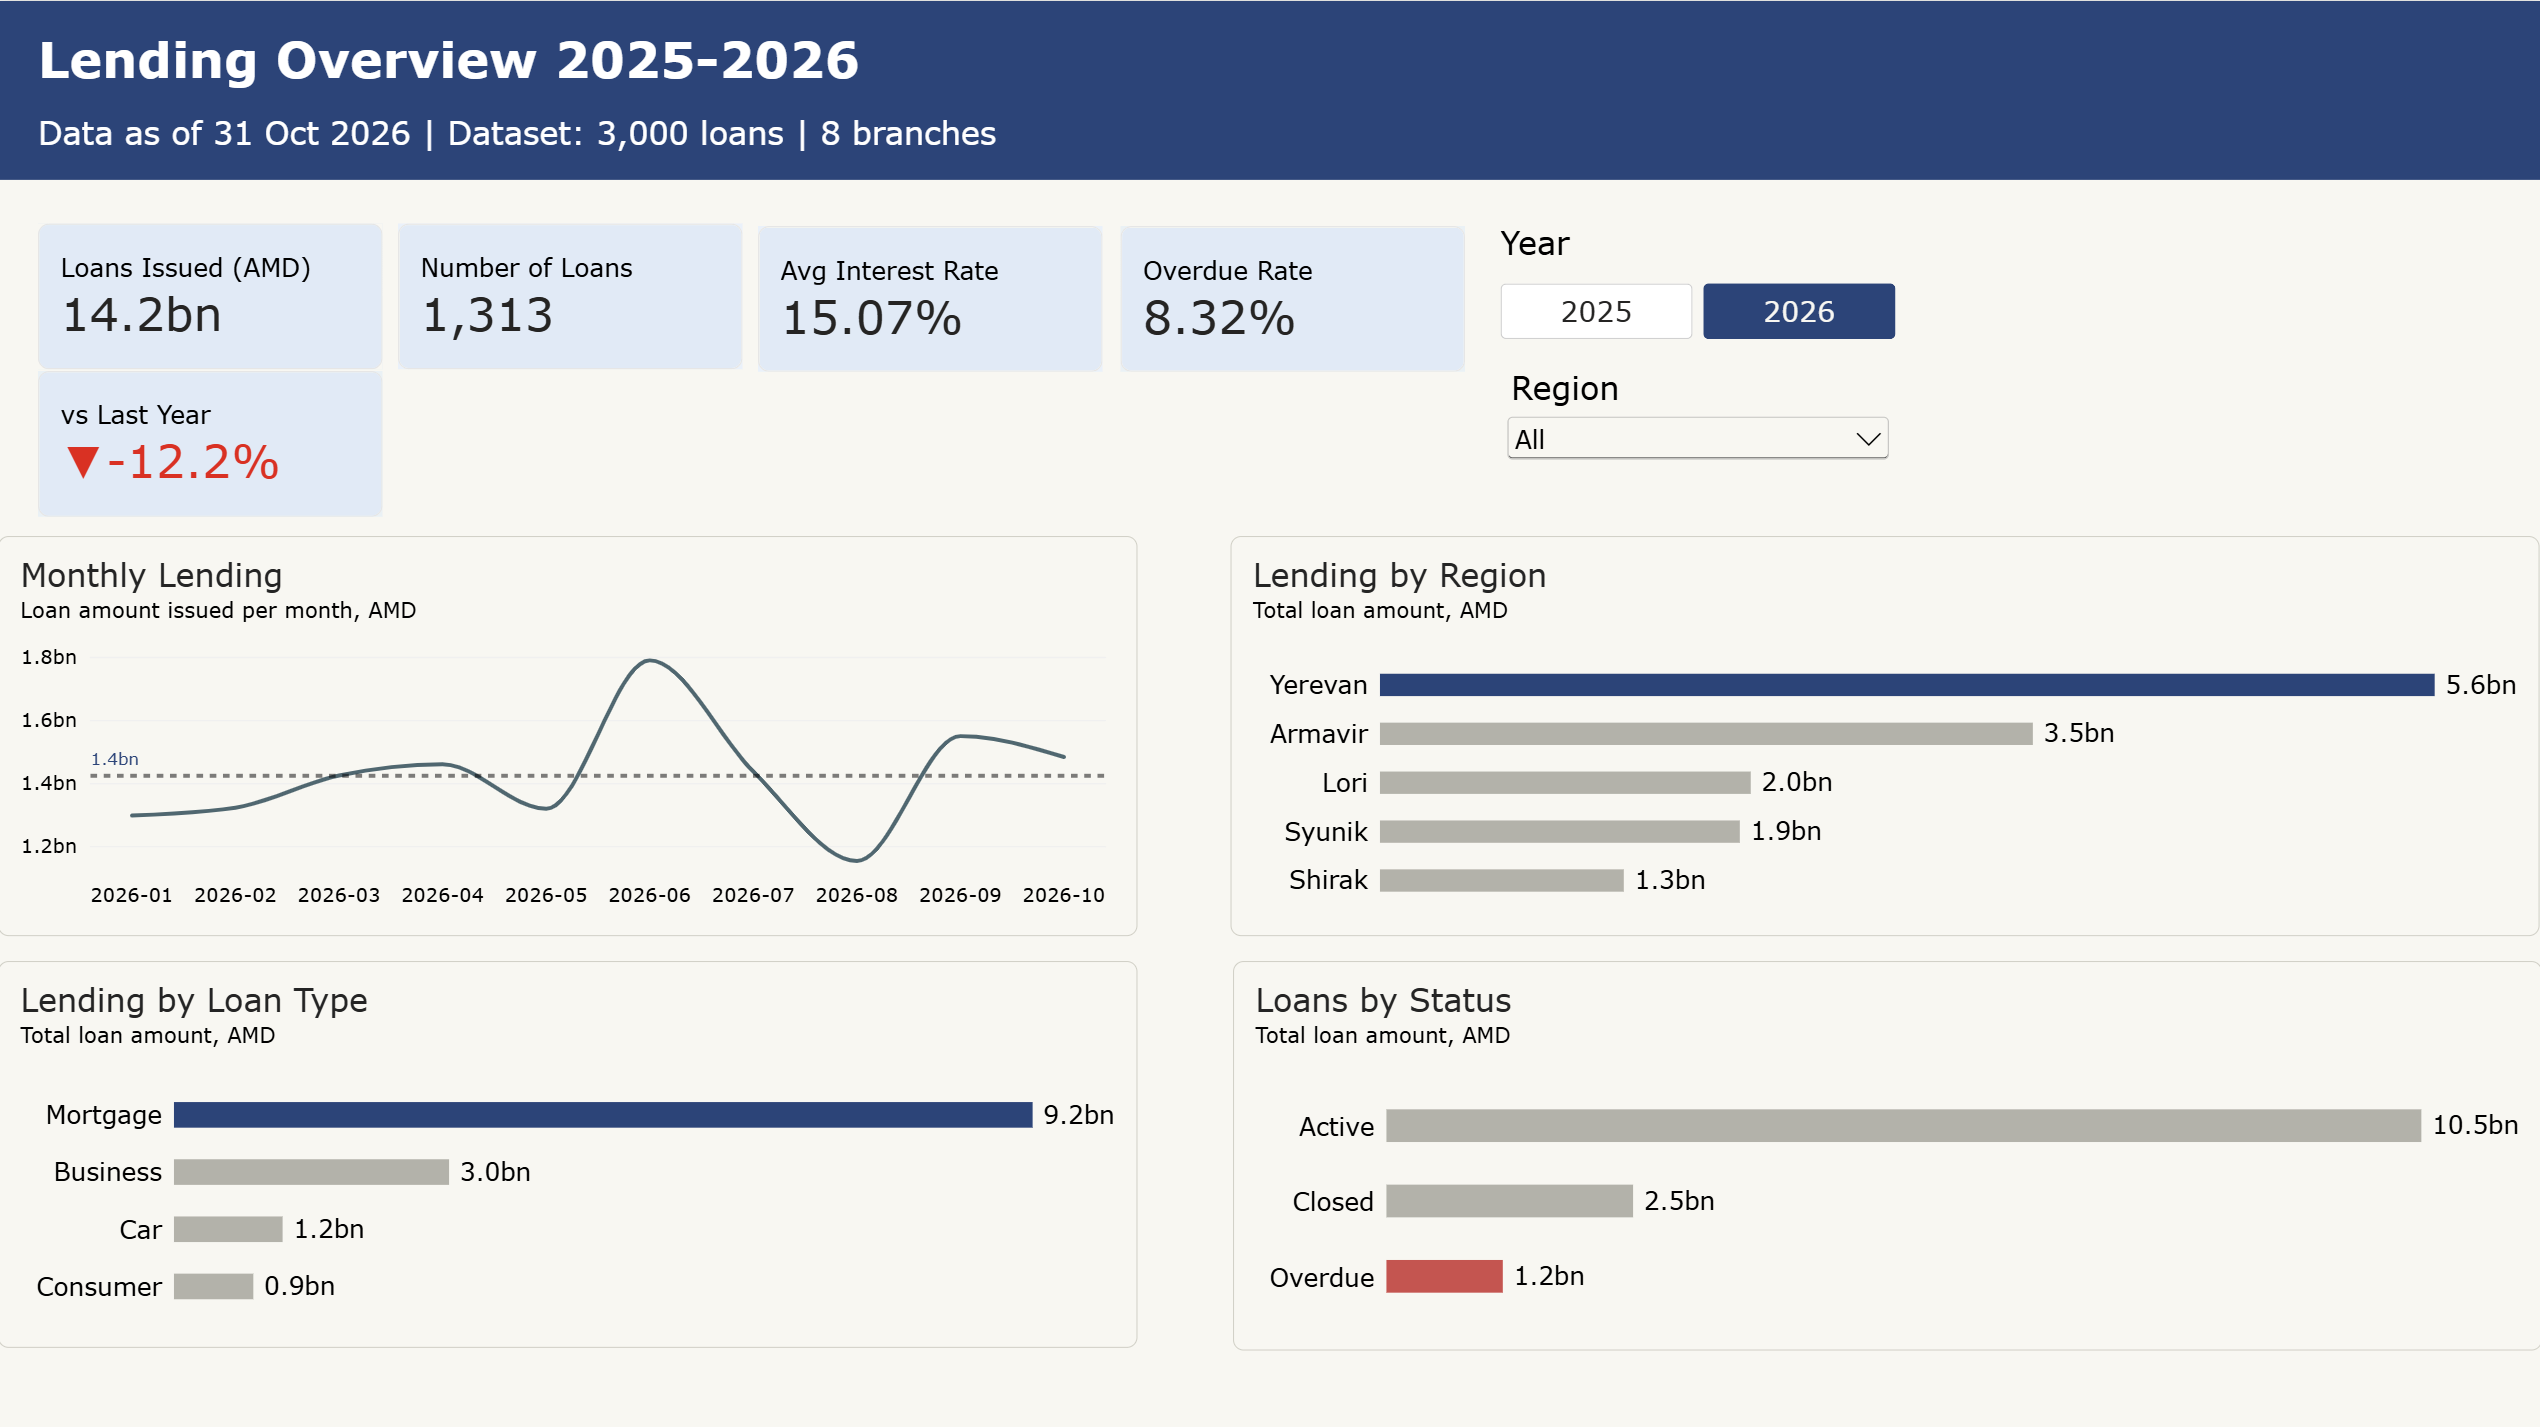

What the dashboard file says about the page in this screenshot:
{"tool":"powerbi","page":{"name":"Overview ","canvas":[1920,1080],"ordinal":0},"visuals":[{"type":"shape","box":[0,0,1920,135],"z":0},{"type":"textbox","box":[30,20,1890,65],"z":1000},{"type":"cardVisual","fields":{"Data":["fact_loans.Loans Issued Text"]},"box":[30,168,260,110],"z":2000},{"type":"cardVisual","fields":{"Data":["fact_loans.Loans Count Text"]},"box":[302.2,168,260,110],"z":3000},{"type":"cardVisual","fields":{"Data":["fact_loans.Avg Rate Text"]},"box":[574.4,168.9,260,110],"z":4000},{"type":"cardVisual","fields":{"Data":["fact_loans.Overdue%"]},"box":[846.7,168.9,260,110],"z":5000},{"type":"lineChart","title":"Monthly Lending ","fields":{"Category":["Dates.Year Month"],"Y":["fact_loans.Total loans"]},"box":[0,404.4,860,302],"z":6000},{"type":"barChart","title":"Lending by Region ","fields":{"Category":["dim_branches.Region"],"Y":["fact_loans.Total loans"]},"box":[931.1,404.4,988,302],"z":7000},{"type":"advancedSlicerVisual","fields":{"Values":["Dates.Year"]},"box":[1134,168,298,88],"z":8000},{"type":"slicer","fields":{"Values":["dim_branches.Region"]},"box":[1134,278,298,94],"z":9000},{"type":"textbox","box":[30.4,85.1,1338.7,32.4],"z":10000},{"type":"cardVisual","fields":{"Data":["fact_loans.YoY Label"]},"box":[31.1,280,260,110],"z":11000},{"type":"clusteredBarChart","title":"Lending by Loan Type ","fields":{"Category":["fact_loans.LoanType"],"Y":["fact_loans.Total loans"]},"box":[0,724,860,292],"z":12000},{"type":"clusteredBarChart","title":"Loans by Status ","fields":{"Category":["fact_loans.Status"],"Y":["fact_loans.Total loans"]},"box":[932,724,988,294],"z":13000}]}

Visuals, with their boxes in screenshot pixels (x1, y1, x2, y2), scaled from the page's 1920x1080 canvas onto the 2540x1427 screenshot:
shape: (0,0,2539,178)
textbox: (40,26,2539,112)
cardVisual - fact_loans.Loans Issued Text: (40,222,384,367)
cardVisual - fact_loans.Loans Count Text: (400,222,744,367)
cardVisual - fact_loans.Avg Rate Text: (760,223,1104,369)
cardVisual - fact_loans.Overdue%: (1120,223,1464,369)
"Monthly Lending " lineChart: (0,534,1138,933)
"Lending by Region " barChart: (1232,534,2539,933)
advancedSlicerVisual - Dates.Year: (1500,222,1894,338)
slicer - dim_branches.Region: (1500,367,1894,492)
textbox: (40,112,1811,155)
cardVisual - fact_loans.YoY Label: (41,370,385,515)
"Lending by Loan Type " clusteredBarChart: (0,957,1138,1342)
"Loans by Status " clusteredBarChart: (1233,957,2539,1345)
